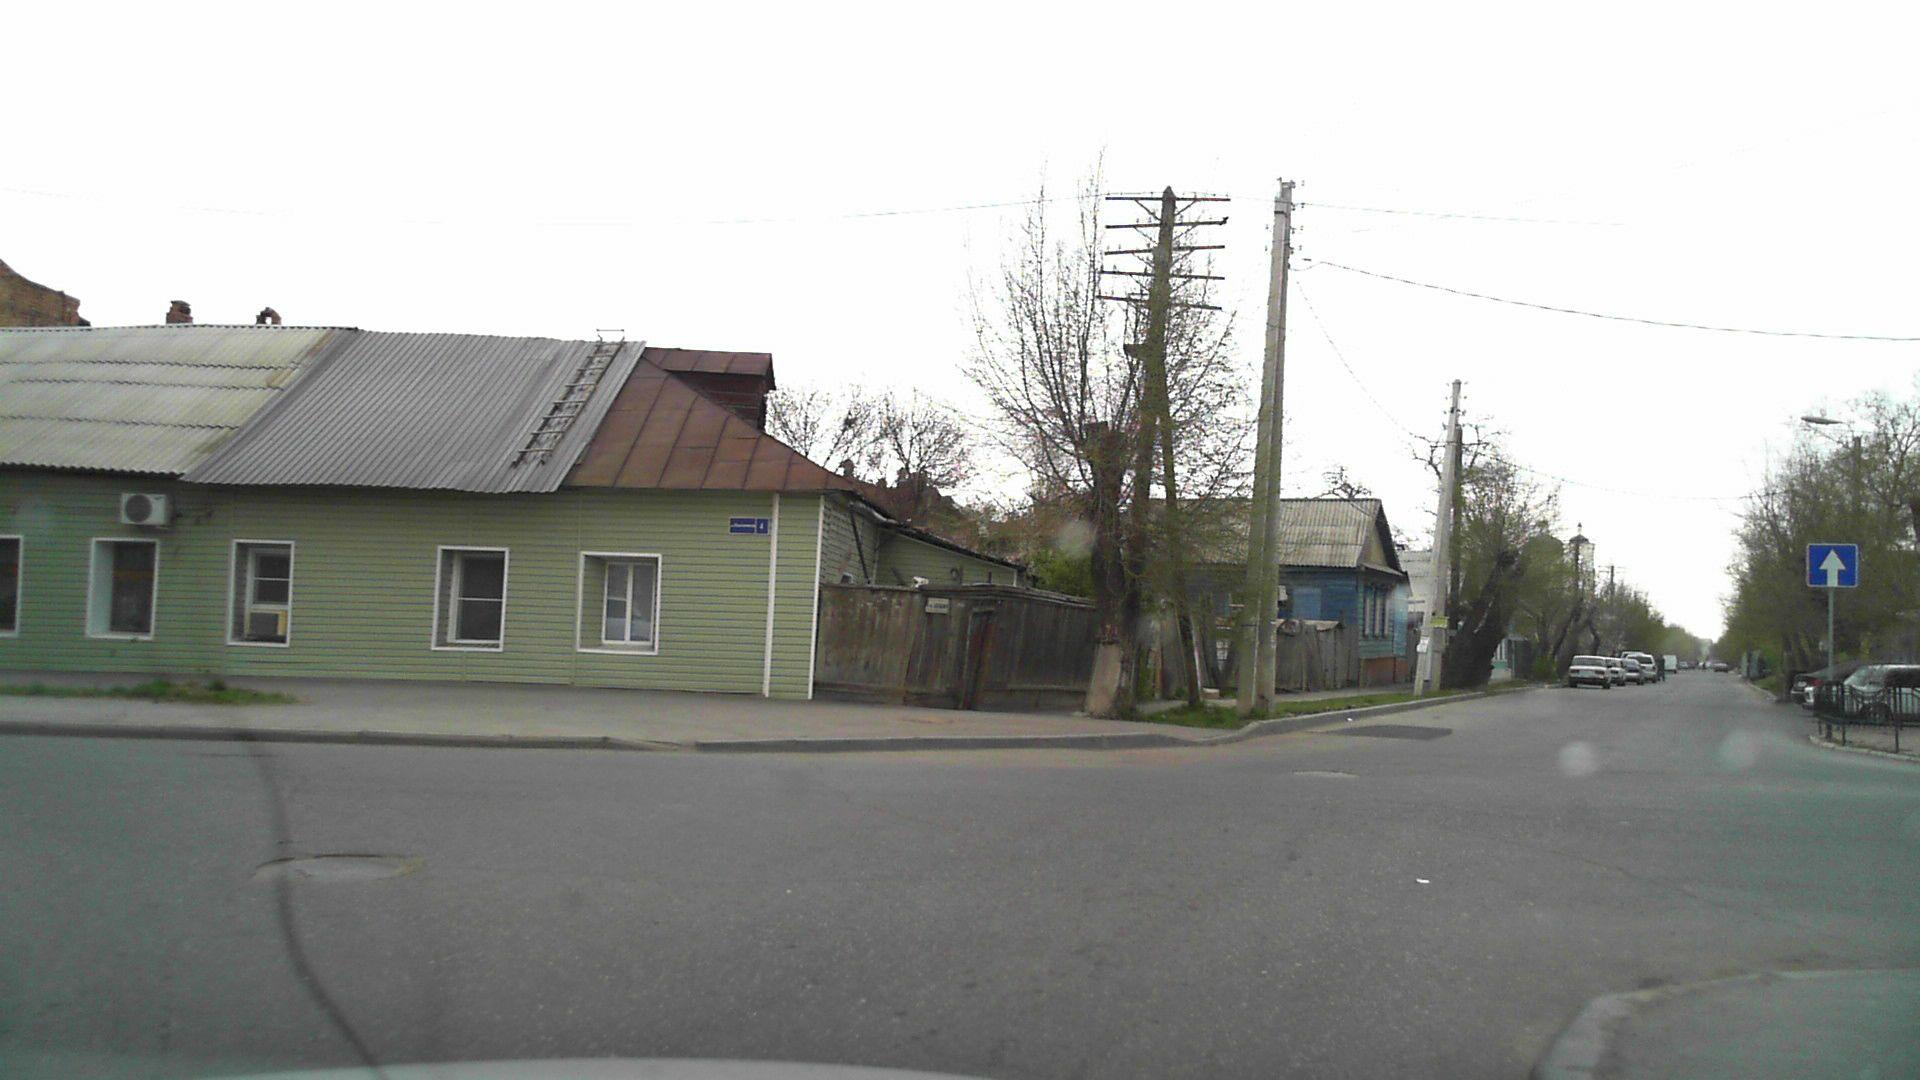5_5: (1807, 542, 1855, 589)
